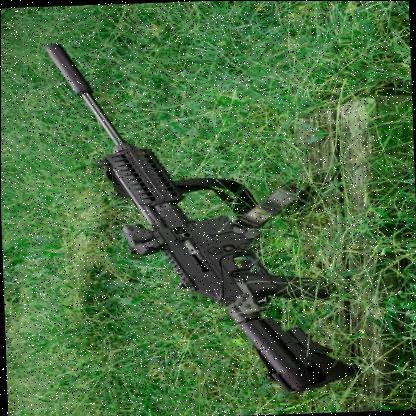rifle: (20, 31, 370, 405)
